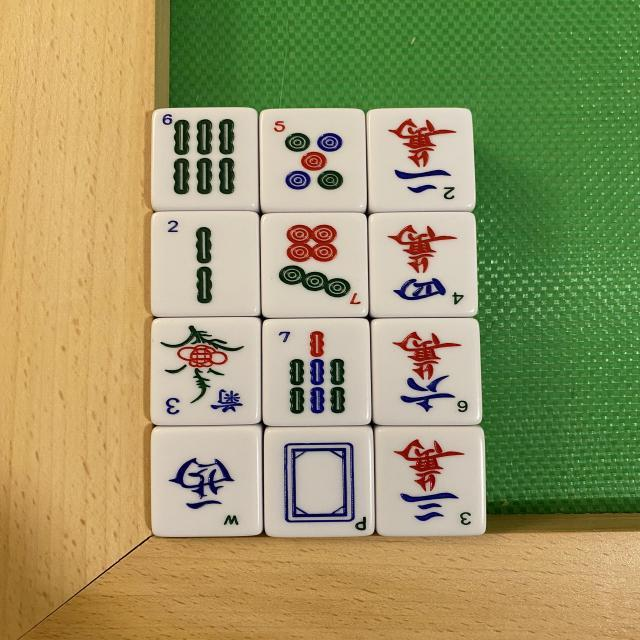bf3: (154, 323, 253, 422)
hdw: (260, 431, 372, 541)
hww: (150, 428, 262, 540)
sb2: (150, 212, 260, 318)
sb6: (147, 107, 253, 208)
sb7: (261, 322, 368, 427)
sc2: (370, 109, 474, 211)
sc3: (374, 428, 484, 538)
sc4: (369, 212, 476, 318)
sc6: (373, 316, 481, 424)
sd5: (262, 111, 366, 212)
sd7: (263, 214, 368, 319)
